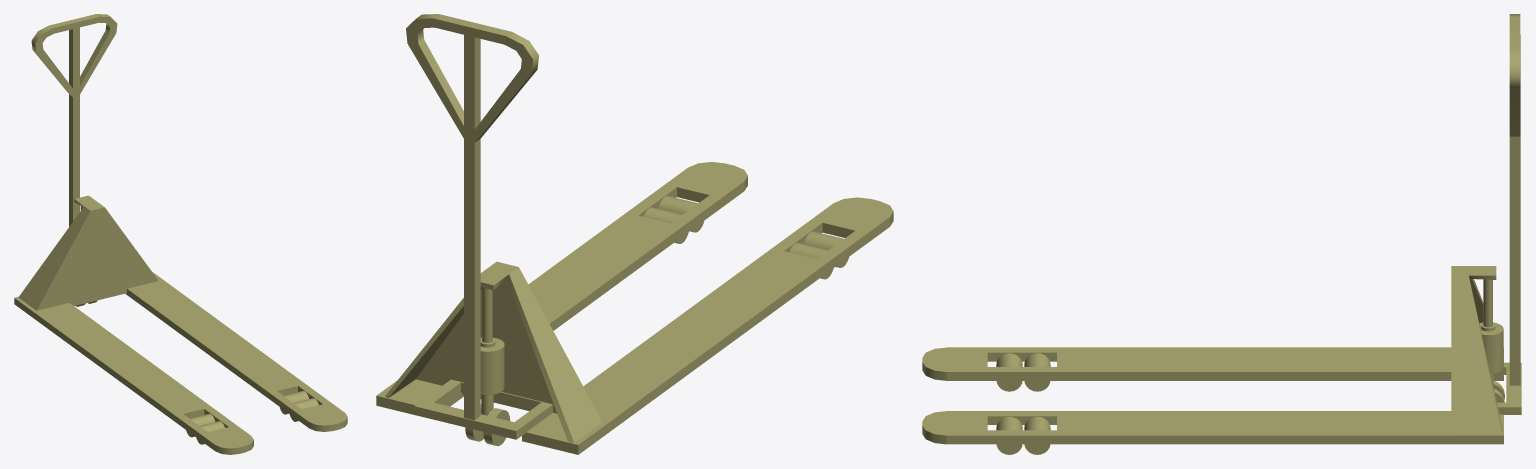
The model's file is Hand_Pallet_Truck.fbx.
The picture shows the model from 3 angles, left to right: view 1: azimuth 30°, elevation 25°; view 2: azimuth 150°, elevation 25°; view 3: azimuth 270°, elevation 25°; orthographic projection. The views are drawn at different scales.
Visible parts, largest first — view 1: Hand_Pallet_Truck; view 2: Hand_Pallet_Truck; view 3: Hand_Pallet_Truck.
Boxes of the visible parts, x1,y1,x2,y2 form: Hand_Pallet_Truck: (14, 14, 347, 454); Hand_Pallet_Truck: (376, 14, 893, 454); Hand_Pallet_Truck: (922, 14, 1521, 454).
Size of the model in its own units: 144 by 291 by 413.
